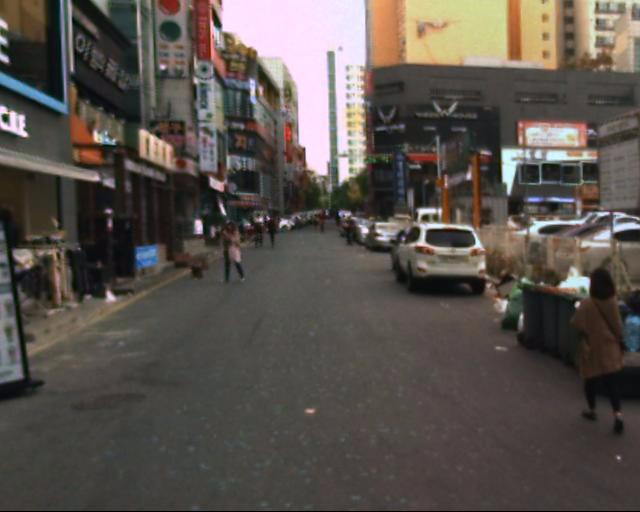person: (570, 253, 620, 440), (218, 204, 250, 286), (264, 202, 288, 260), (248, 203, 268, 258)
